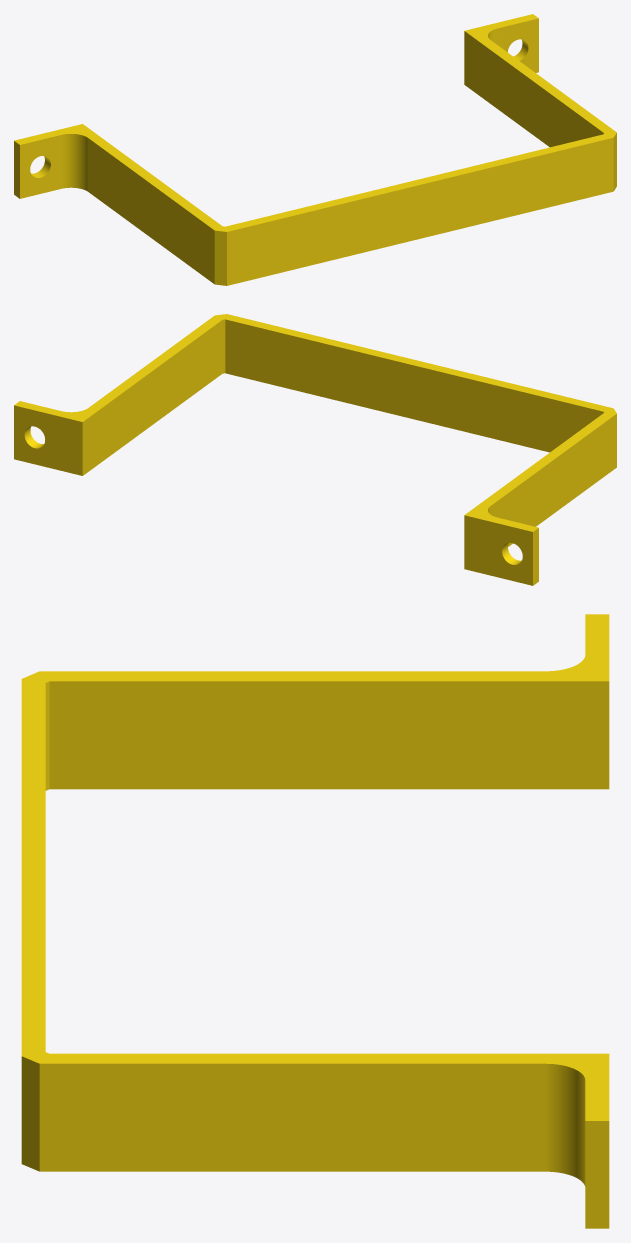
The model's file is SnapClip_1.gltf.
The picture shows the model from 3 angles, top to bottom: view 1: azimuth 30°, elevation 25°; view 2: azimuth 150°, elevation 25°; view 3: azimuth 270°, elevation 25°; orthographic projection. The views are drawn at different scales.
Visible parts, largest first — view 1: mesh15280, mesh15278, mesh15290, mesh15288, mesh15274, mesh15277, mesh15293, mesh15279; view 2: mesh15286, mesh15288, mesh15290, mesh15278, mesh15276, mesh15292; view 3: mesh15284, mesh15282, mesh15290, mesh15283, mesh15291, mesh15281.
Boxes of the visible parts, box(x1,y1,x2,y2) form: mesh15280: box(227, 137, 613, 285); mesh15278: box(88, 138, 214, 283); mesh15290: box(14, 14, 616, 231); mesh15288: box(464, 31, 603, 147); mesh15274: box(20, 135, 61, 198); mesh15277: box(61, 134, 88, 191); mesh15293: box(497, 18, 538, 72); mesh15279: box(214, 230, 226, 285); mesh15286: box(225, 319, 603, 452); mesh15288: box(82, 320, 222, 475); mesh15290: box(14, 314, 616, 531); mesh15278: box(490, 414, 616, 546); mesh15276: box(464, 515, 532, 585); mesh15292: box(14, 405, 82, 475); mesh15284: box(49, 681, 609, 789); mesh15282: box(39, 1063, 545, 1171); mesh15290: box(21, 614, 609, 1120); mesh15283: box(545, 1063, 585, 1186); mesh15291: box(585, 1121, 609, 1228); mesh15281: box(21, 1056, 39, 1171).
Bounding box in the file's own units: 0.151 × 0.015 × 0.074.
